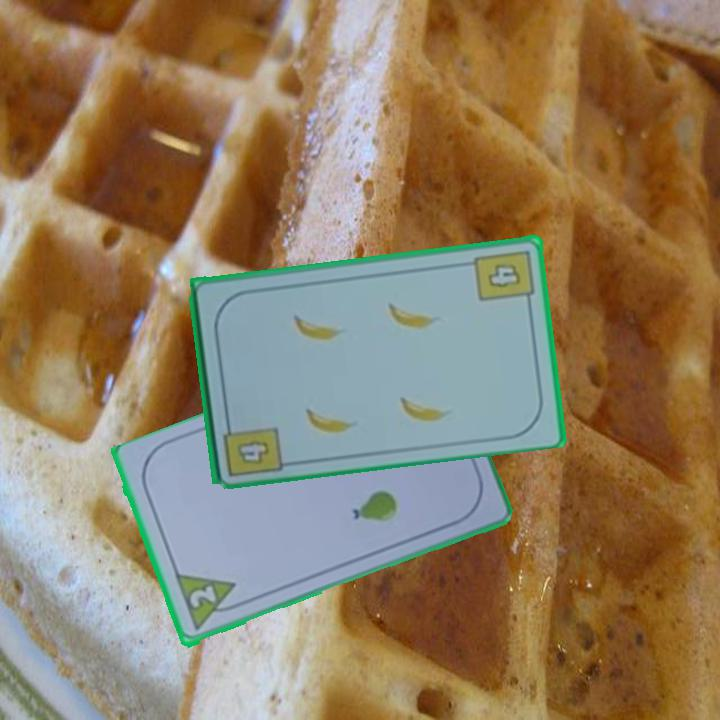2p: (172, 571, 245, 635)
4b: (219, 414, 285, 479), (470, 246, 537, 308)
